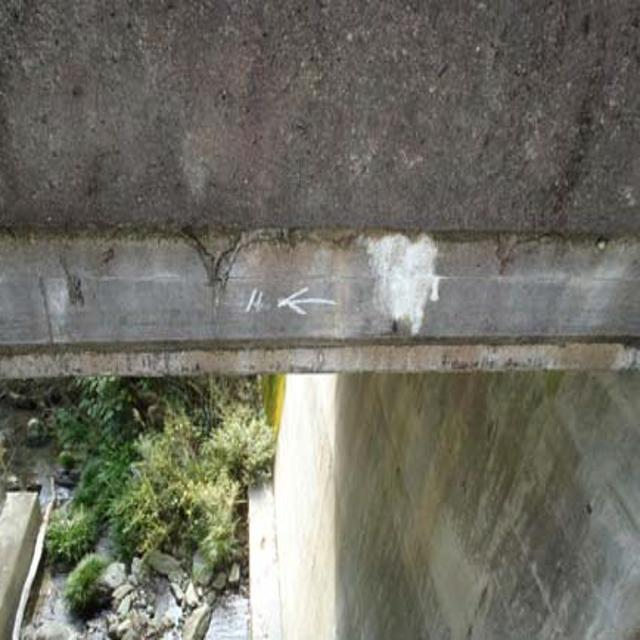freelime: (356, 218, 451, 356)
